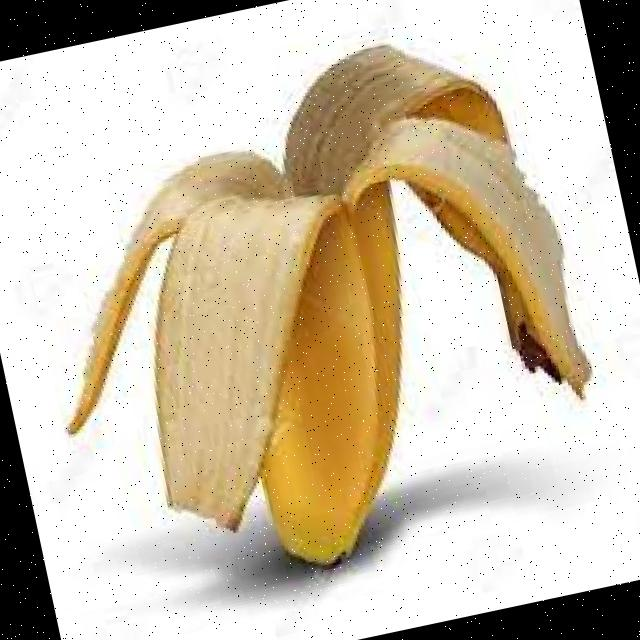banana-peel: (0, 12, 621, 613)
